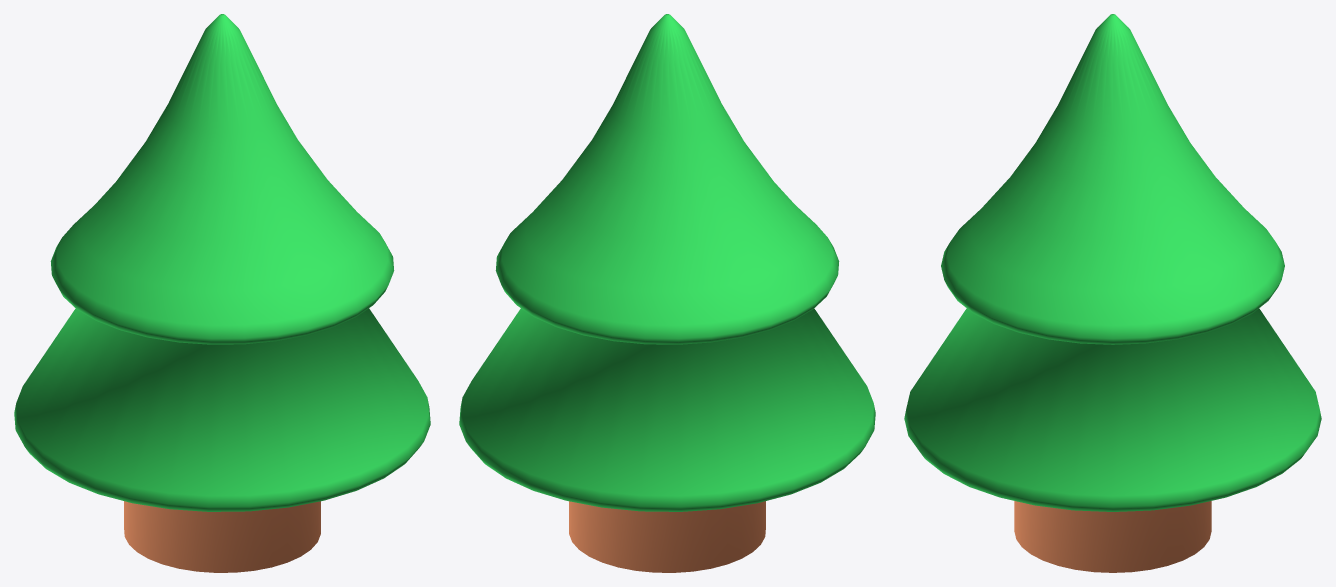
The model's file is PROP_tree 6.fbx.
The picture shows the model from 3 angles, left to right: view 1: azimuth 30°, elevation 25°; view 2: azimuth 150°, elevation 25°; view 3: azimuth 270°, elevation 25°; orthographic projection.
Parts seen in each view (by area): view 1: Cone.002; view 2: Cone.002; view 3: Cone.002.
Part boxes in pixels (<box>): Cone.002: <box>14,14,430,572</box>; Cone.002: <box>459,14,875,572</box>; Cone.002: <box>904,14,1321,572</box>.
Size of the model in its own units: 246 by 335 by 246.
